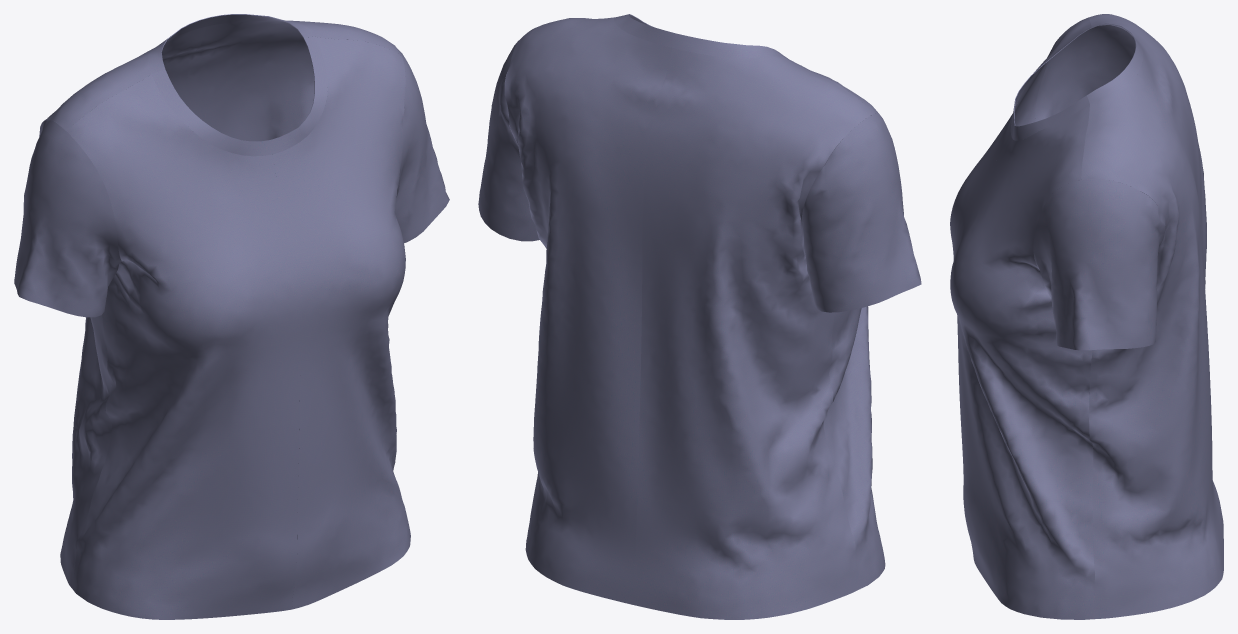
3 renders of one model, left to right at view 1: azimuth 30°, elevation 25°; view 2: azimuth 150°, elevation 25°; view 3: azimuth 270°, elevation 25°, orthographic. The views are drawn at different scales.
Visible parts, largest first — view 1: Body_Front (×2), Body_Back (×2), Sleeves (×2), Ribbing (×2); view 2: Body_Back (×2), Sleeves (×2), Body_Front, Ribbing; view 3: Body_Front (×2), Body_Back (×2), Sleeves (×2), Ribbing (×2).
Boxes of the visible parts, x1=… form: Body_Front (×2): x1=67, y1=36, x2=410, y2=619; Body_Back (×2): x1=44, y1=20, x2=401, y2=588; Sleeves (×2): x1=14, y1=49, x2=449, y2=317; Ribbing (×2): x1=147, y1=14, x2=327, y2=156; Body_Back (×2): x1=504, y1=17, x2=872, y2=619; Sleeves (×2): x1=478, y1=43, x2=921, y2=312; Body_Front: x1=786, y1=58, x2=885, y2=588; Ribbing: x1=614, y1=14, x2=783, y2=58; Body_Front (×2): x1=950, y1=17, x2=1095, y2=619; Body_Back (×2): x1=1081, y1=14, x2=1223, y2=619; Sleeves (×2): x1=1033, y1=25, x2=1165, y2=350; Ribbing (×2): x1=1010, y1=23, x2=1143, y2=140.
Bounding box in the file's own units: 47.52 × 56.49 × 27.49.
